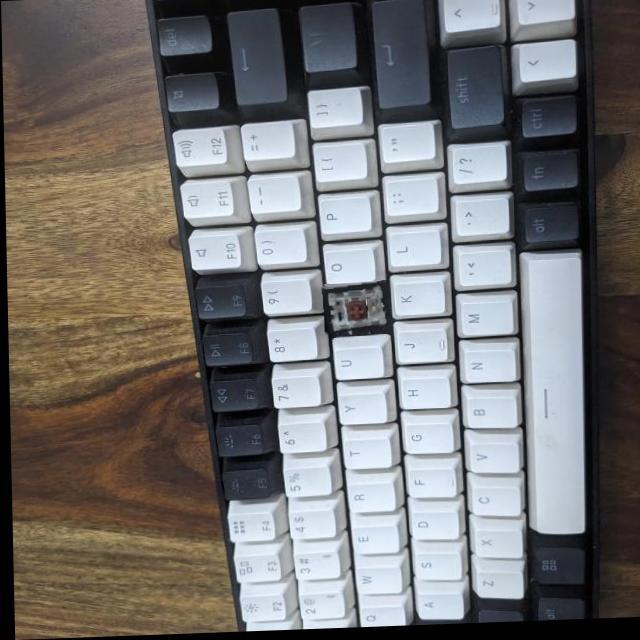key-switch: (320, 283, 389, 335)
